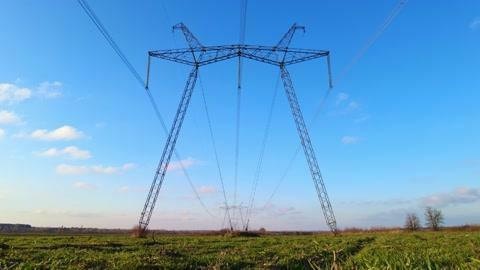power_tower: (123, 19, 343, 240)
